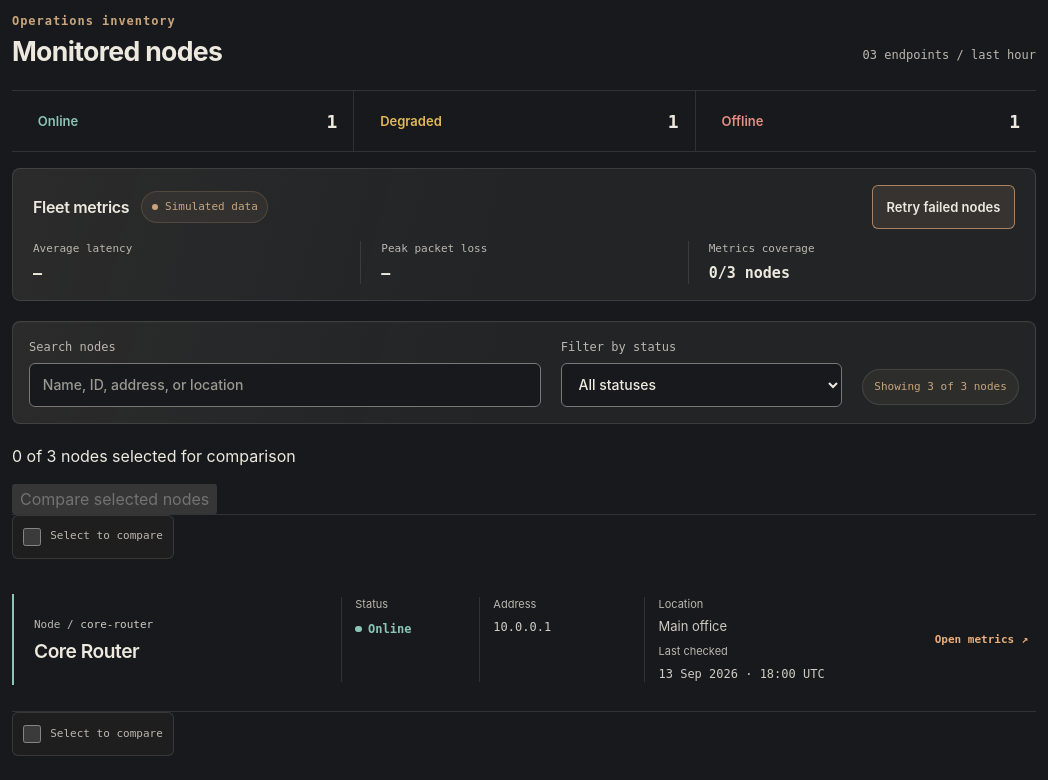
Scenario: NetworkNodesPanel › keeps selection available and blocks continuing until two nodes are selected
Expected: the button "Compare selected nodes" is disabled, [12,484,217,514]
Click the checkbox named "Select Core Router for comparison". click: [32, 536]
box: [23,528,41,546]
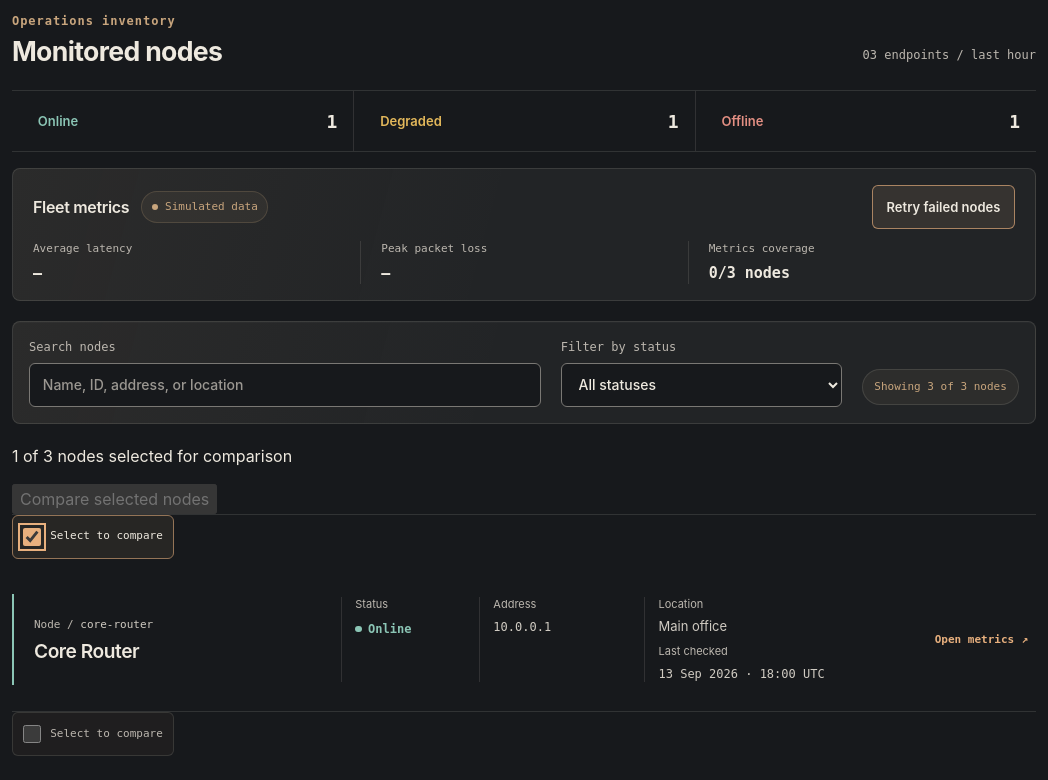
Expected: the button "Compare selected nodes" is disabled, [12,484,217,514]
Expected: the checkbox named "Select Core Router for comparison" is checked, [23,528,41,546]
Click the checkbox named "Select Access Switch 01 for comparison". click: [32, 734]
box: [23,725,41,743]
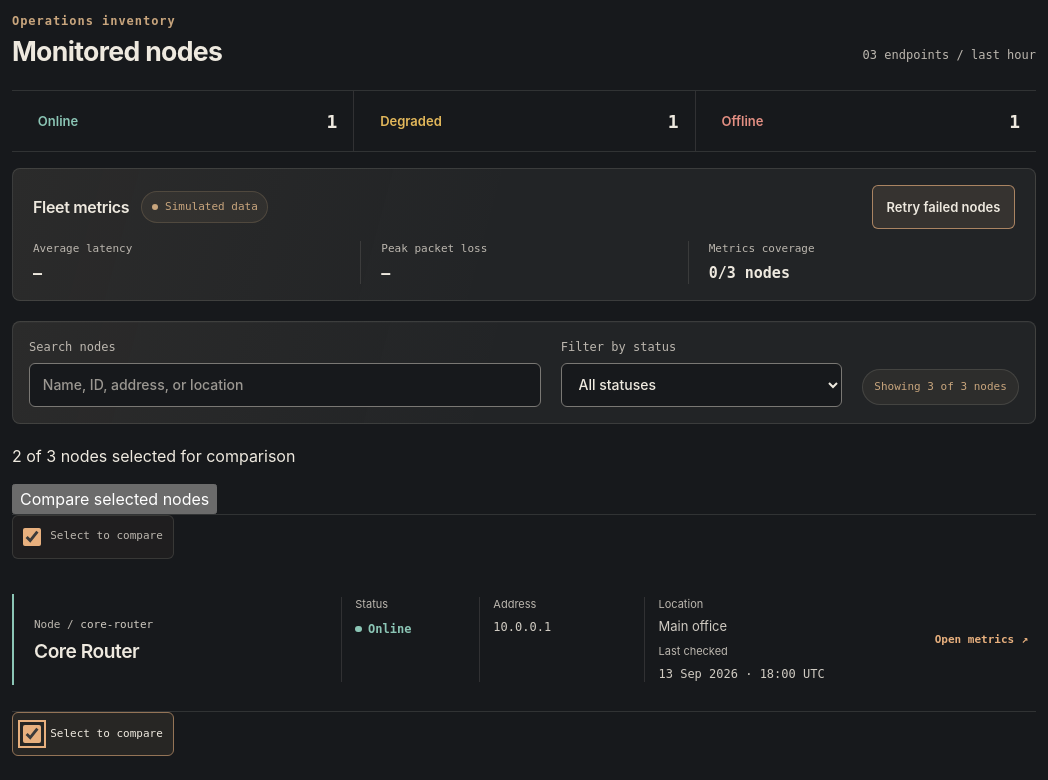
Expected: the checkbox named "Select Access Switch 01 for comparison" is checked, [23,725,41,743]
Expected: the button "Compare selected nodes" is enabled, [12,484,217,514]
